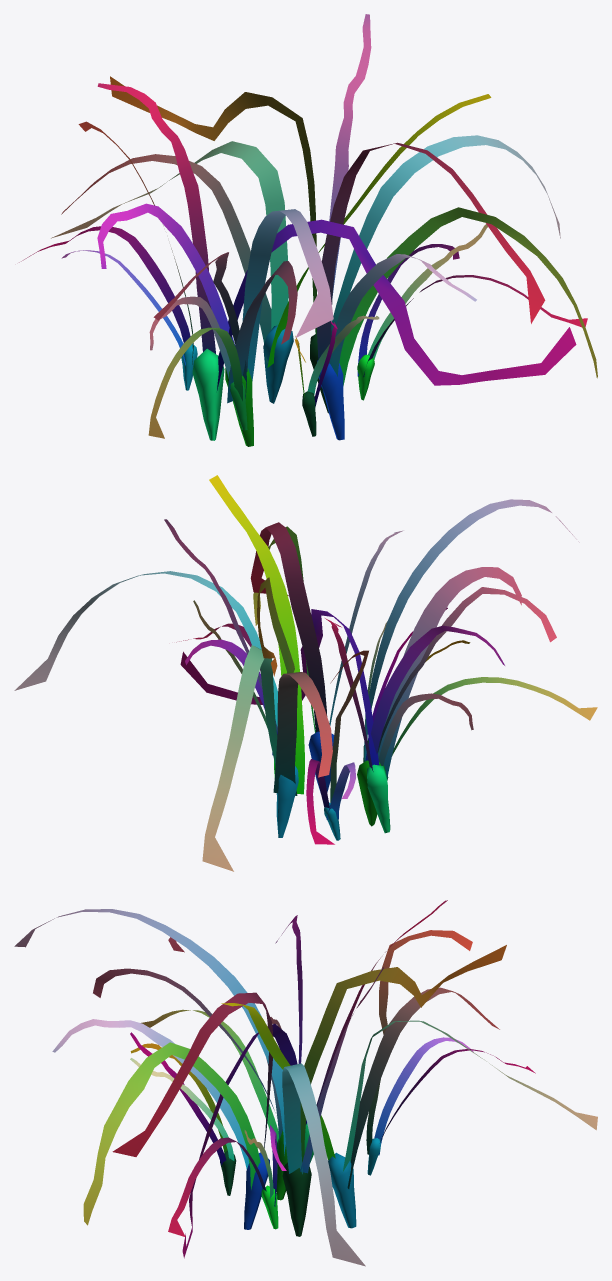
Rendered from Ribbon_Grass_tbdpec3r_High_tbdpec3r_VarF_LOD0.fbx.
3 renders of one model, top to bottom at view 1: azimuth 30°, elevation 25°; view 2: azimuth 150°, elevation 25°; view 3: azimuth 270°, elevation 25°, orthographic. The views are drawn at different scales.
Parts seen in each view (by area): view 1: _3b42_VarF_LOD0; view 2: _3b42_VarF_LOD0; view 3: _3b42_VarF_LOD0.
Boxes of the visible parts, x1=… form: _3b42_VarF_LOD0: x1=19, y1=14, x2=597, y2=446; _3b42_VarF_LOD0: x1=14, y1=475, x2=597, y2=871; _3b42_VarF_LOD0: x1=14, y1=900, x2=597, y2=1266.
Size of the model in its own units: 31.42 by 19.61 by 33.46.
